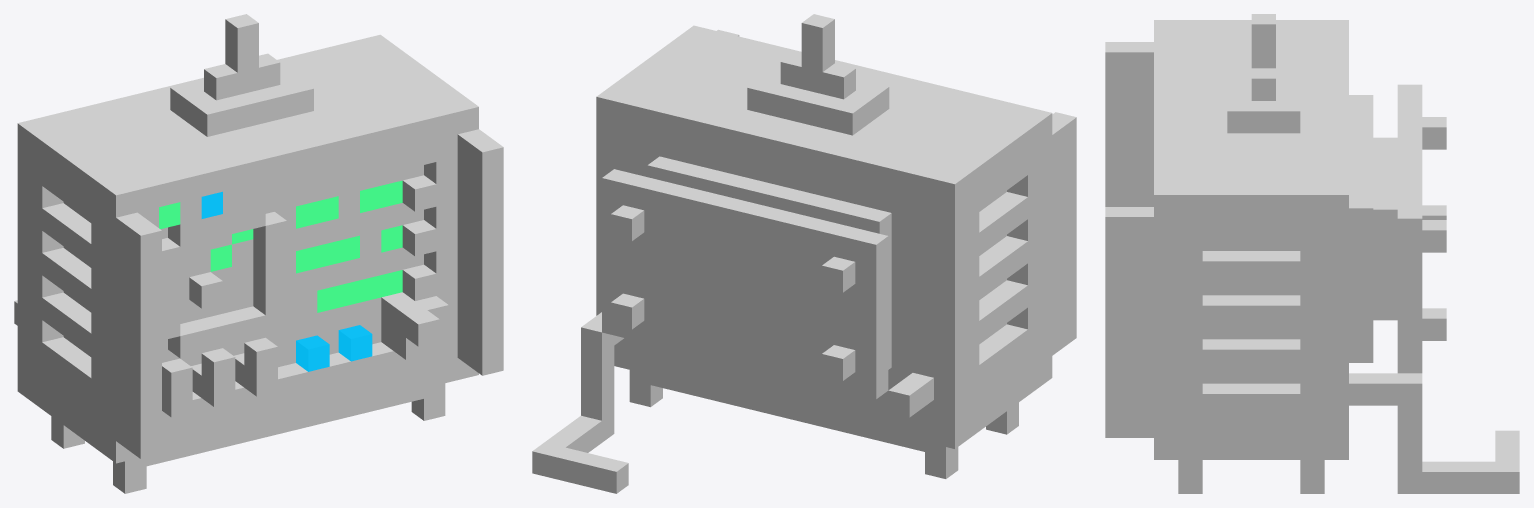
File: CONSOLA - copia.glb
3 views of the same model, side by side, from view 1: azimuth 30°, elevation 25°; view 2: azimuth 150°, elevation 25°; view 3: azimuth 270°, elevation 25° (orthographic).
Visible parts, largest first — view 1: Consola_Navegacion_Voxel; view 2: Consola_Navegacion_Voxel; view 3: Consola_Navegacion_Voxel.
Part boxes in pixels (box(x1,y1,x2,y2)): Consola_Navegacion_Voxel: box(14, 14, 503, 493); Consola_Navegacion_Voxel: box(532, 14, 1076, 493); Consola_Navegacion_Voxel: box(1105, 14, 1519, 493).
Size of the model in its own units: 0.7784 by 0.8242 by 0.7784.
